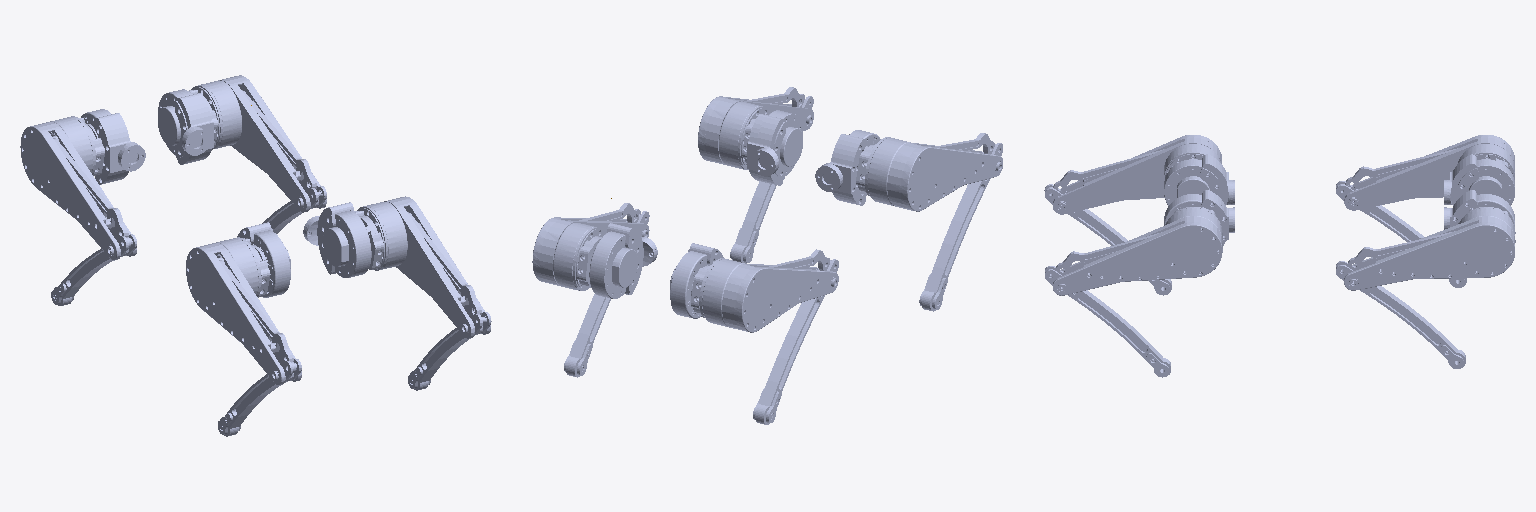
The robot description file, URDF, robot "canine":
<?xml version="1.0" encoding="utf-8"?>
<!-- This URDF was automatically created by SolidWorks to URDF Exporter! Originally created by [author] ([email redacted]) 
     Commit Version: 1.6.0-4-g7f85cfe  Build Version: 1.6.7995.38578
     For more information, please see http://wiki.ros.org/sw_urdf_exporter -->
<robot name="canine">

  <!--
    Base
  -->

  <link name="base">
    <visual>
      <origin rpy="0 0 -1.5708" xyz="0.13012 0 0"/>
      <geometry>
        <box size="0.001 0.001 0.001"/>
      </geometry>
    </visual>
  </link>

  <joint name="floating_base" type="fixed">
    <origin rpy="0 0 0" xyz="0 0 0"/>
    <parent link="base"/>
    <child link="trunk"/>
  </joint>
  <link name="trunk">
    <inertial>
      <origin xyz="0.00071514 -0.050885 0.13012" rpy="0 0 0" />
      <mass value="2.7533" />
      <inertia ixx="0.0057332" ixy="-1.9143E-06" ixz="1.1386E-06" iyy="0.0074365" iyz="3.1364E-05" izz="0.0042267" />
    </inertial>
    <visual>
      <origin xyz="0 0 0" rpy="0 0 0" />
      <geometry>
        <mesh filename="package://canine/meshes/base.STL" />
      </geometry>
      <material name="">
        <color rgba="0.79216 0.81961 0.93333 1" />
      </material>
    </visual>
    <collision>
      <origin xyz="0 0 0" rpy="0 0 0" />
      <geometry>
        <box size="0.5 0.25 0.1"/>
      </geometry>
    </collision>
  </link>

  <!--
    Right Front
  -->

  <joint name="RF_HIP" type="revolute">
    <origin xyz="0.055 0.029 -0.0555" rpy="-3.1254 0 1.5708" />
    <parent link="trunk" />
    <child link="RF_hip" />
    <axis xyz="1 0 0" />
    <limit lower="0" upper="0" effort="0" velocity="0" />
  </joint>
  <link name="RF_hip">
    <inertial>
      <origin xyz="0.059164 0.012038 -0.00019541" rpy="0 0 0" />
      <mass value="0.32374" />
      <inertia ixx="0.00022887" ixy="-5.3873E-07" ixz="8.7556E-09" iyy="0.00034219" iyz="-2.7862E-06" izz="0.0001706" />
    </inertial>
    <visual>
      <origin xyz="0 0 0" rpy="0 0 0" />
      <geometry>
        <mesh filename="package://canine/meshes/R_U_hip.STL" />
      </geometry>
      <material name="">
        <color rgba="0.79216 0.81961 0.93333 1" />
      </material>
    </visual>
    <collision>
      <origin xyz="0 0 0" rpy="0 0 0" />
      <geometry>
        <cylinder length="0.04" radius="0.046"/>
      </geometry>
    </collision>
  </link>

  <joint name="RF_THIGH" type="revolute">
    <origin xyz="0.0705 0.030496 -0.00049506" rpy="3.1161 -0.88179 0.01971" />
    <parent link="RF_hip" />
    <child link="RF_thigh" />
    <axis xyz="0 1 0" />
    <limit lower="0" upper="0" effort="0" velocity="0" />
  </joint>
  <link name="RF_thigh">
    <inertial>
      <origin xyz="-0.016682 -0.053867 -0.03127" rpy="0 0 0" />
      <mass value="0.66261" />
      <inertia ixx="0.0014795" ixy="9.0444E-06" ixz="-0.00055213" iyy="0.0020402" iyz="9.9502E-06" izz="0.00065686" />
    </inertial>
    <visual>
      <origin xyz="0 0 0" rpy="0 0 0" />
      <geometry>
        <mesh filename="package://canine/meshes/R_U_thigh.STL" />
      </geometry>
      <material name="">
        <color rgba="0.79216 0.81961 0.93333 1" />
      </material>
    </visual>
    <collision>
      <origin xyz="0 0 0" rpy="0 0 0" />
      <geometry>
        <cylinder length="0.2" radius="0.046"/>
      </geometry>
    </collision>
  </link>


  <joint name="RF_KNEE" type="revolute">
    <origin xyz="-0.097329 -0.0635 -0.20806" rpy="0 -0.93889 0" />
    <parent link="RF_thigh" />
    <child link="RF_calf" />
    <axis xyz="0 1 0" />
    <limit lower="0" upper="0" effort="0" velocity="0" />
  </joint>
  <link name="RF_calf">
    <inertial>
      <origin xyz="0.0903995110879683 -0.0134010354699436 -0.0815546391110332" rpy="0 0 0" />
      <mass value="0.0797775047131952" />
      <inertia
        ixx="0.000120869018916494"
        ixy="3.36791907481562E-06"
        ixz="0.000121716458384322"
        iyy="0.000251924426887095"
        iyz="-2.99950573141427E-06"
        izz="0.000134275303415971" />
    </inertial>
    <visual>
      <origin xyz="0 0 0" rpy="0 0 0" />
      <geometry>
        <mesh filename="package://canine/meshes/R_U_calf.STL" />
      </geometry>
      <material name="">
        <color rgba="0.792156862745098 0.819607843137255 0.933333333333333 1" />
      </material>
    </visual>
    <collision>
      <origin xyz="0 0 0" rpy="0 0 0" />
      <geometry>
        <cylinder length="0.2" radius="0.046"/>
      </geometry>
    </collision>
  </link>

  <!--
    Left Front
  -->

  <joint name="LF_HIP" type="revolute">
    <origin xyz="-0.055 0.029 -0.0555" rpy="3.1254 0 1.5708" />
    <parent link="trunk" />
    <child link="LF_hip" />
    <axis xyz="1 0 0" />
    <limit lower="0" upper="0" effort="0" velocity="0" />
  </joint>
  <link name="LF_hip">
    <inertial>
      <origin xyz="0.0591641497687251 -0.0120378425752097 -0.000195419215283668" rpy="0 0 0" />
      <mass value="0.32373914076309" />
      <inertia
              ixx="0.000228866491699843"
              ixy="5.38734521163201E-07"
              ixz="8.73553072057054E-09"
              iyy="0.000342191045237346"
              iyz="2.78625377495411E-06"
              izz="0.000170601773822891" />
    </inertial>
    <visual>
      <origin xyz="0 0 0" rpy="0 0 0" />
      <geometry>
        <mesh filename="package://canine/meshes/L_U_hip.STL" />
      </geometry>
      <material name="">
        <color rgba="0.792156862745098 0.819607843137255 0.933333333333333 1" />
      </material>
    </visual>
    <collision>
      <origin xyz="0 0 0" rpy="0 0 0" />
      <geometry>
        <cylinder length="0.04" radius="0.046"/>
      </geometry>
    </collision>
  </link>

  <joint name="LF_THIGH" type="revolute">
    <origin
            xyz="0.0705 -0.030496 -0.00049506"
            rpy="-3.1215 -0.63237 -0.011895" />
    <parent link="LF_hip" />
    <child link="LF_thigh" />
    <axis xyz="0 1 0" />
    <limit lower="0" upper="0" effort="0" velocity="0" />
  </joint>
  <link name="LF_thigh">
    <inertial>
      <origin xyz="-0.0238018835638041 0.0538602704018073 -0.0268298178445934" rpy="0 0 0" />
      <mass value="0.662460391527623" />
      <inertia
              ixx="0.00118292970198166"
              ixy="-1.09775957771536E-05"
              ixz="-0.000678790495379001"
              iyy="0.00204012150714968"
              iyz="-7.56507286343527E-06"
              izz="0.000953340839617935" />
    </inertial>
    <visual>
      <origin xyz="0 0 0" rpy="0 0 0" />
      <geometry>
        <mesh filename="package://canine/meshes/L_U_thigh.STL" />
      </geometry>
      <material name="">
        <color rgba="0.792156862745098 0.819607843137255 0.933333333333333 1" />
      </material>
    </visual>
    <collision>
      <origin xyz="0 0 0" rpy="0 0 0" />
      <geometry>
        <cylinder length="0.2" radius="0.046"/>
      </geometry>
    </collision>
  </link>

  <joint name="LF_KNEE" type="revolute">
    <origin xyz="-0.14351 0.0635 -0.17974" rpy="0 -0.74882 0" />
    <parent link="LF_thigh" />
    <child link="LF_calf" />
    <axis xyz="0 1 0" />
    <limit lower="0" upper="0" effort="0" velocity="0" />
  </joint>
  <link name="LF_calf">
    <inertial>
      <origin xyz="0.0851280866395884 0.0135784285147793 -0.0851105246335961" rpy="0 0 0" />
      <mass value="0.0805314869500575" />
      <inertia
              ixx="0.000133401396725268"
              ixy="-3.26409734809321E-06"
              ixz="0.000121762230325978"
              iyy="0.000251954581284015"
              iyz="3.24551269645504E-06"
              izz="0.00012177622159678" />
    </inertial>
    <visual>
      <origin xyz="0 0 0" rpy="0 0 0" />
      <geometry>
        <mesh filename="package://canine/meshes/L_U_calf.STL" />
      </geometry>
      <material name="">
        <color rgba="0.792156862745098 0.819607843137255 0.933333333333333 1" />
      </material>
    </visual>
    <collision>
      <origin xyz="0 0 0"  rpy="0 0 0" />
      <geometry>
        <cylinder length="0.2" radius="0.046"/>
      </geometry>
    </collision>
  </link>

  <!--
    Right HIND
  -->

  <joint name="RH_HIP" type="revolute">
    <origin xyz="0.055 -0.321 -0.0555" rpy="-3.0463 0 -1.5708" />
    <parent link="trunk" />
    <child link="RH_hip" />
    <axis xyz="1 0 0" />
    <limit lower="0" upper="0" effort="0" velocity="0" />
  </joint>
  <link name="RH_hip">
    <inertial>
      <origin xyz="0.059164 -0.011985 0.0011458" rpy="0 0 0" />
      <mass value="0.32374" />
      <inertia
        ixx="0.00022887"
        ixy="5.3636E-07"
        ixz="-5.1288E-08"
        iyy="0.00034068"
        iyz="-1.6265E-05"
        izz="0.00017211" />
    </inertial>
    <visual>
      <origin xyz="0 0 0" rpy="0 0 0" />
      <geometry>
        <mesh filename="package://canine/meshes/R_L_hip.STL" />
      </geometry>
      <material name="">
        <color rgba="0.79216 0.81961 0.93333 1" />
      </material>
    </visual>
    <collision>
      <origin xyz="0 0 0" rpy="0 0 0" />
      <geometry>
        <cylinder length="0.04" radius="0.046"/>
      </geometry>
    </collision>
  </link>

  <joint name="RH_THIGH" type="revolute">
    <origin xyz="0.0705 -0.030362 0.0029028" rpy="-2.9993 -0.83487 3.0358" />
    <parent link="RH_hip" />
    <child link="RH_thigh" />
    <axis xyz="0 1 0" />
    <limit lower="0" upper="0" effort="0" velocity="0" />
  </joint>
  <link name="RH_thigh">
    <inertial>
      <origin xyz="-0.016682 -0.053867 -0.03127" rpy="0 0 0" />
      <mass value="0.66261" />
      <inertia
        ixx="0.0014795"
        ixy="9.0444E-06"
        ixz="-0.00055213"
        iyy="0.0020402"
        iyz="9.9502E-06"
        izz="0.00065686" />
    </inertial>
    <visual>
      <origin xyz="0 0 0" rpy="0 0 0" />
      <geometry>
        <mesh filename="package://canine/meshes/R_L_thigh.STL" />
      </geometry>
      <material name="">
        <color rgba="0.79216 0.81961 0.93333 1" />
      </material>
    </visual>
    <collision>
      <origin xyz="0 0 0" rpy="0 0 0" />
      <geometry>
        <cylinder length="0.2" radius="0.046"/>
      </geometry>
    </collision>
  </link>

  <joint name="RH_KNEE" type="revolute">
    <origin xyz="-0.097329 -0.0635 -0.20806" rpy="0 -0.86179 0" />
    <parent link="RH_thigh" />
    <child link="RH_calf" />
    <axis xyz="0 1 0" />
    <limit lower="0" upper="0" effort="0" velocity="0" />
  </joint>
  <link name="RH_calf">
    <inertial>
      <origin xyz="0.0904 -0.013401 -0.081555" rpy="0 0 0" />
      <mass value="0.079778" />
      <inertia
        ixx="0.00012087"
        ixy="3.3679E-06"
        ixz="0.00012172"
        iyy="0.00025192"
        iyz="-2.9995E-06"
        izz="0.00013428" />
    </inertial>
    <visual>
      <origin xyz="0 0 0" rpy="0 0 0" />
      <geometry>
        <mesh filename="package://canine/meshes/R_L_calf.STL" />
      </geometry>
      <material name="">
        <color rgba="0.79216 0.81961 0.93333 1" />
      </material>
    </visual>
    <collision>
      <origin xyz="0 0 -0.1" rpy="0 0 0" />
      <geometry>
        <cylinder length="0.2" radius="0.046"/>
      </geometry>
    </collision>
  </link>

  <!--
    LEFT HIND
  -->

  <joint name="LH_HIP" type="revolute">
    <origin xyz="-0.055 -0.321 -0.0555" rpy="-0.016232 0 -1.5708" />
    <parent link="trunk" />
    <child link="LH_hip" />
    <axis xyz="1 0 0" />
    <limit lower="0" upper="0" effort="0" velocity="0" />
  </joint>
  <link name="LH_hip">
    <inertial>
      <origin xyz="0.0591641497664375 -0.0120378425752082 -0.000195419907403974" rpy="0 0 0" />
      <mass value="0.32373914076309" />
      <inertia
        ixx="0.000228866491700048"
        ixy="5.38734553757676E-07"
        ixz="8.73484912680651E-09"
        iyy="0.000342191045237346"
        iyz="2.78625376865426E-06"
        izz="0.000170601773822687" />
    </inertial>
    <visual>
      <origin xyz="0 0 0" rpy="0 0 0" />
      <geometry>
        <mesh filename="package://canine/meshes/L_L_hip.STL" />
      </geometry>
      <material name="">
        <color rgba="0.792156862745098 0.819607843137255 0.933333333333333 1" />
      </material>
    </visual>
    <collision>
      <origin xyz="0 0 0" rpy="0 0 0" />
      <geometry>
        <cylinder length="0.04" radius="0.046"/>
      </geometry>
    </collision>
  </link>

  <joint name="LH_THIGH" type="revolute">
    <origin xyz="0.0705 -0.030496 -0.00049506" rpy="-0.019656 0.59916 3.1305" />
    <parent link="LH_hip" />
    <child link="LH_thigh" />
    <axis xyz="0 1 0" />
    <limit lower="0" upper="0" effort="0" velocity="0" />
  </joint>
  <link name="LH_thigh">
    <inertial>
      <origin xyz="-0.0238018836042694 0.0538602703953595 -0.026829817836702" rpy="0 0 0" />
      <mass value="0.662460391522287" />
      <inertia
        ixx="0.00118292970194267"
        ixy="-1.09775959193154E-05"
        ixz="-0.000678790495547379"
        iyy="0.00204012150674005"
        iyz="-7.56507294154423E-06"
        izz="0.000953340839341223" />
    </inertial>
    <visual>
      <origin xyz="0 0 0" rpy="0 0 0" />
      <geometry>
        <mesh filename="package://canine/meshes/L_L_thigh.STL" />
      </geometry>
      <material name="">
        <color rgba="0.792156862745098 0.819607843137255 0.933333333333333 1" />
      </material>
    </visual>
    <collision>
      <origin xyz="0 0 0" rpy="0 0 0" />
      <geometry>
        <cylinder length="0.2" radius="0.046"/>
      </geometry>
    </collision>
  </link>

  <joint name="LH_KNEE" type="revolute">
    <origin xyz="-0.14351 0.0635 -0.17974" rpy="0 -0.67937 0" />
    <parent link="LH_thigh" />
    <child link="LH_calf" />
    <axis xyz="0 1 0" />
    <limit lower="0" upper="0" effort="0" velocity="0" />
  </joint>
  <link name="LH_calf">
    <inertial>
      <origin xyz="0.0851280867430809 0.0135784285147111 -0.0851105245337283" rpy="0 0 0" />
      <mass value="0.0805314869500573" />
      <inertia
        ixx="0.000133401396651952"
        ixy="-3.26409734674725E-06"
        ixz="0.000121762230314681"
        iyy="0.000251954581226133"
        iyz="3.24551269616321E-06"
        izz="0.000121776221612203" />
    </inertial>
    <visual>
      <origin xyz="0 0 0" rpy="0 0 0" />
      <geometry>
        <mesh filename="package://canine/meshes/L_L_calf.STL" />
      </geometry>
      <material name="">
        <color rgba="0.792156862745098 0.819607843137255 0.933333333333333 1" />
      </material>
    </visual>
    <collision>
      <origin xyz="0 0 -0.1" rpy="0 0 0" />
      <geometry>
        <cylinder length="0.2" radius="0.046"/>
      </geometry>
    </collision>
  </link>

</robot>

--- Facts derived from the render (not from the file) ---
3 views of the same robot in one strip: view 1: azimuth 30°, elevation 25°; view 2: azimuth 150°, elevation 25°; view 3: azimuth 270°, elevation 25° (orthographic).
Model canine with 14 links and 13 joints (12 revolute, 1 fixed), rooted at base, posed all joints at 0.
Visible links, largest first — view 1: LH_thigh, LF_thigh, RH_thigh, RF_thigh, RH_hip, RF_hip, LF_hip, LH_hip, RH_calf, LH_calf, LF_calf, RF_calf; view 2: LF_thigh, LH_thigh, RF_thigh, RH_thigh, RF_hip, RH_hip, LH_calf, LF_calf, LH_hip, LF_hip, RF_calf, RH_calf; view 3: RH_thigh, RF_thigh, LH_thigh, LF_thigh, LF_hip, LH_hip, RF_calf, RH_calf, LH_calf, RH_hip, LF_calf, RF_hip.
Link boxes in pixels (x1,y1,x2,y2): LH_thigh: (186, 237, 301, 385); LF_thigh: (20, 116, 136, 260); RH_thigh: (354, 196, 490, 338); RF_thigh: (189, 75, 326, 212); RH_hip: (303, 202, 371, 277); RF_hip: (158, 89, 213, 164); LF_hip: (81, 109, 145, 184); LH_hip: (237, 222, 290, 297); RH_calf: (408, 312, 491, 390); LH_calf: (218, 359, 301, 436); LF_calf: (51, 234, 136, 305); RF_calf: (262, 186, 326, 233); LF_thigh: (691, 249, 838, 332); LH_thigh: (856, 133, 1002, 211); RF_thigh: (532, 203, 649, 290); RH_thigh: (698, 87, 813, 169); RF_hip: (589, 223, 657, 298); RH_hip: (747, 110, 802, 185); LH_calf: (919, 143, 1002, 311); LF_calf: (753, 258, 838, 424); LH_hip: (815, 130, 880, 205); LF_hip: (670, 243, 723, 318); RF_calf: (564, 209, 649, 377); RH_calf: (730, 94, 813, 263); RH_thigh: (1053, 207, 1222, 295); RF_thigh: (1344, 207, 1515, 290); LH_thigh: (1053, 135, 1221, 214); LF_thigh: (1344, 135, 1514, 210); LF_hip: (1444, 154, 1514, 205); LH_hip: (1164, 154, 1234, 205); RF_calf: (1336, 261, 1465, 368); RH_calf: (1045, 266, 1170, 377); LH_calf: (1044, 184, 1171, 295); RH_hip: (1164, 190, 1234, 245); LF_calf: (1336, 181, 1466, 287); RF_hip: (1444, 190, 1514, 229).
Size in the robot's own frame: 0.368 by 0.7896 by 0.2937 metres.
12 mesh visuals loaded from 13 distinct referenced files (12 binary STL); not drawn: 1 (reference not matched to a file when rendering).
